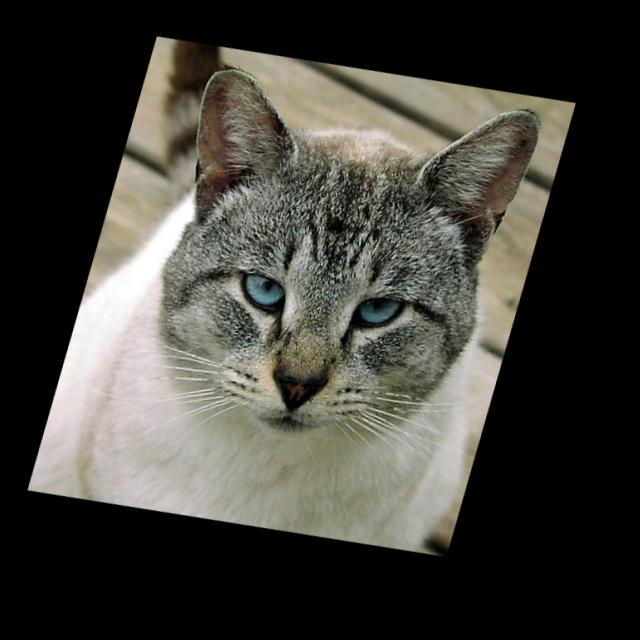animals: (137, 52, 533, 455)
